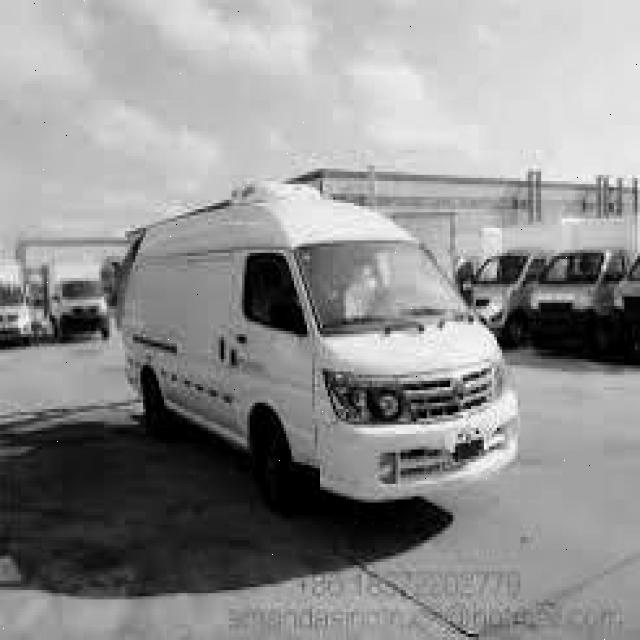Van: (110, 181, 534, 540)
